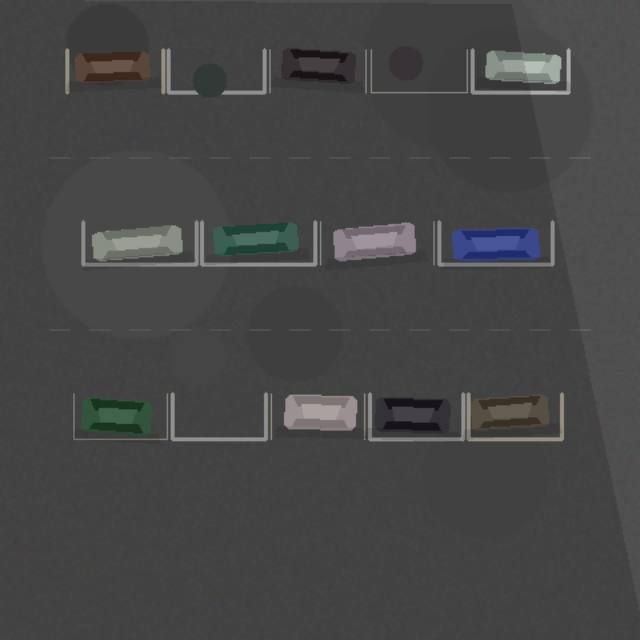space-empty: (172, 393, 265, 439), (168, 49, 264, 92), (371, 49, 467, 92)
space-occupied: (201, 221, 315, 264), (83, 221, 196, 264), (320, 221, 433, 264), (439, 221, 552, 264), (73, 393, 167, 439), (369, 393, 463, 439), (271, 393, 364, 439), (468, 393, 561, 439), (67, 49, 163, 92), (269, 49, 365, 92), (472, 49, 568, 92)
